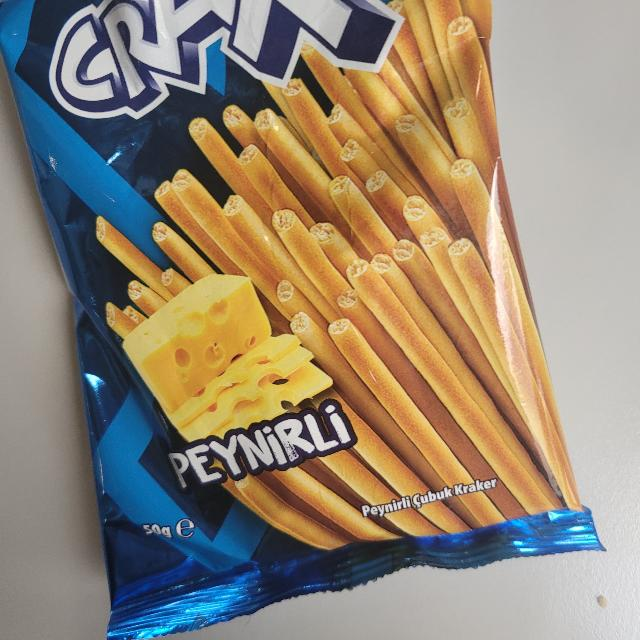Plastik: (0, 0, 611, 640)
